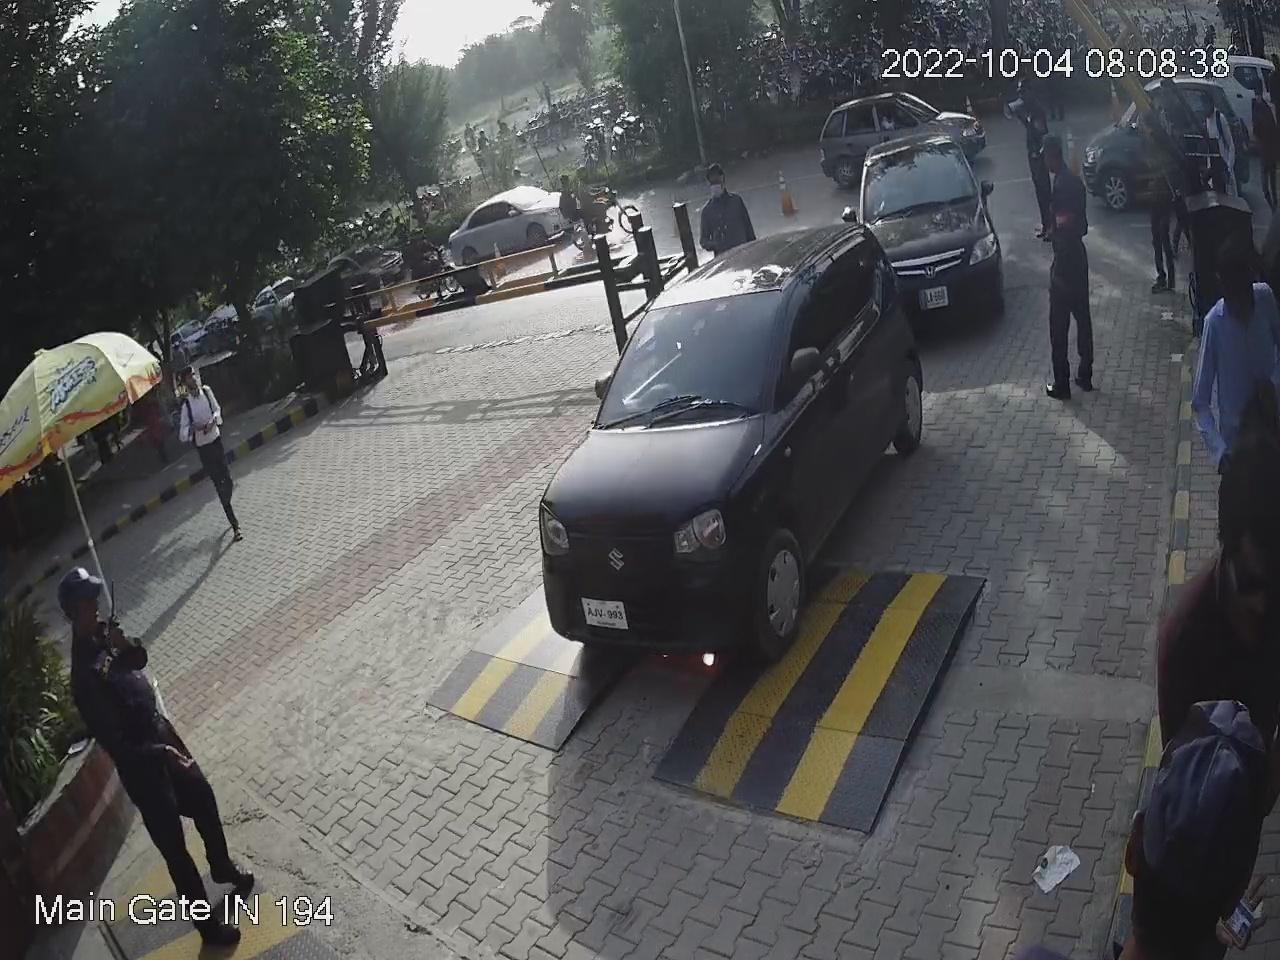windshield: (591, 282, 796, 428)
